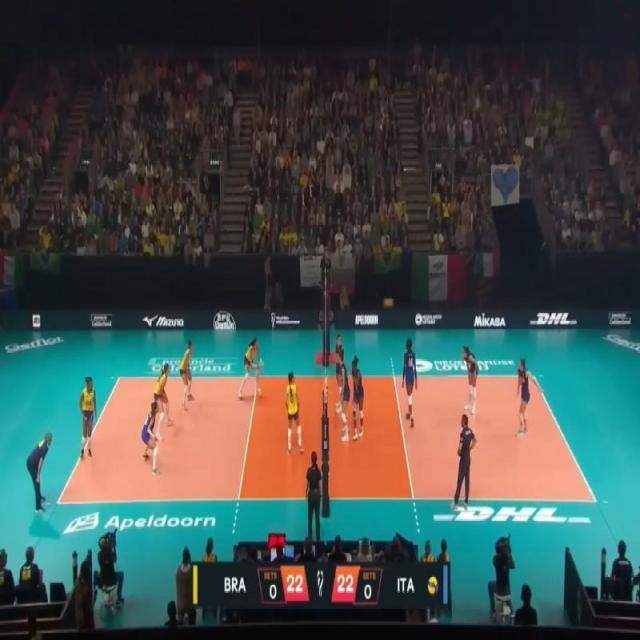volleyball: (383, 296, 394, 310)
